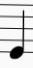note: (8, 1, 26, 60)
